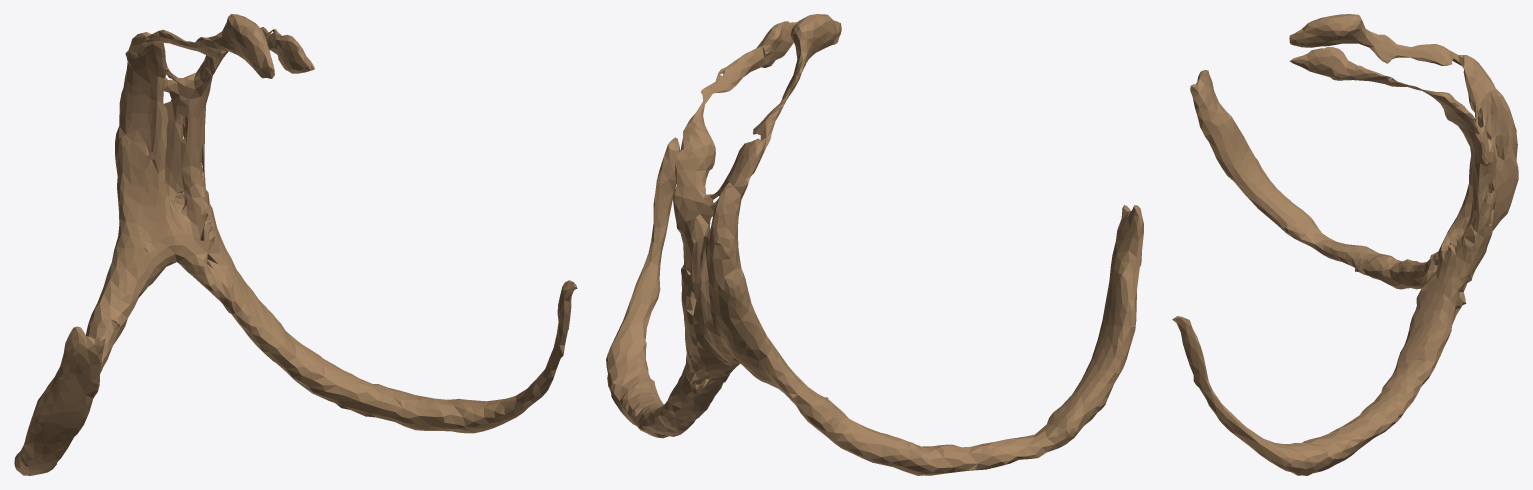
Rendered from fornix.obj.
3 views of the same model, side by side, from view 1: azimuth 30°, elevation 25°; view 2: azimuth 150°, elevation 25°; view 3: azimuth 270°, elevation 25° (orthographic). The views are drawn at different scales.
Visible parts, largest first — view 1: Fornix_fornix; view 2: Fornix_fornix; view 3: Fornix_fornix.
Part boxes in pixels (left/top/right/bottom): Fornix_fornix: left=14, top=14, right=577, bottom=475; Fornix_fornix: left=606, top=14, right=1143, bottom=475; Fornix_fornix: left=1172, top=14, right=1518, bottom=475.
Size of the model in its own units: 134 by 113 by 94.59.
